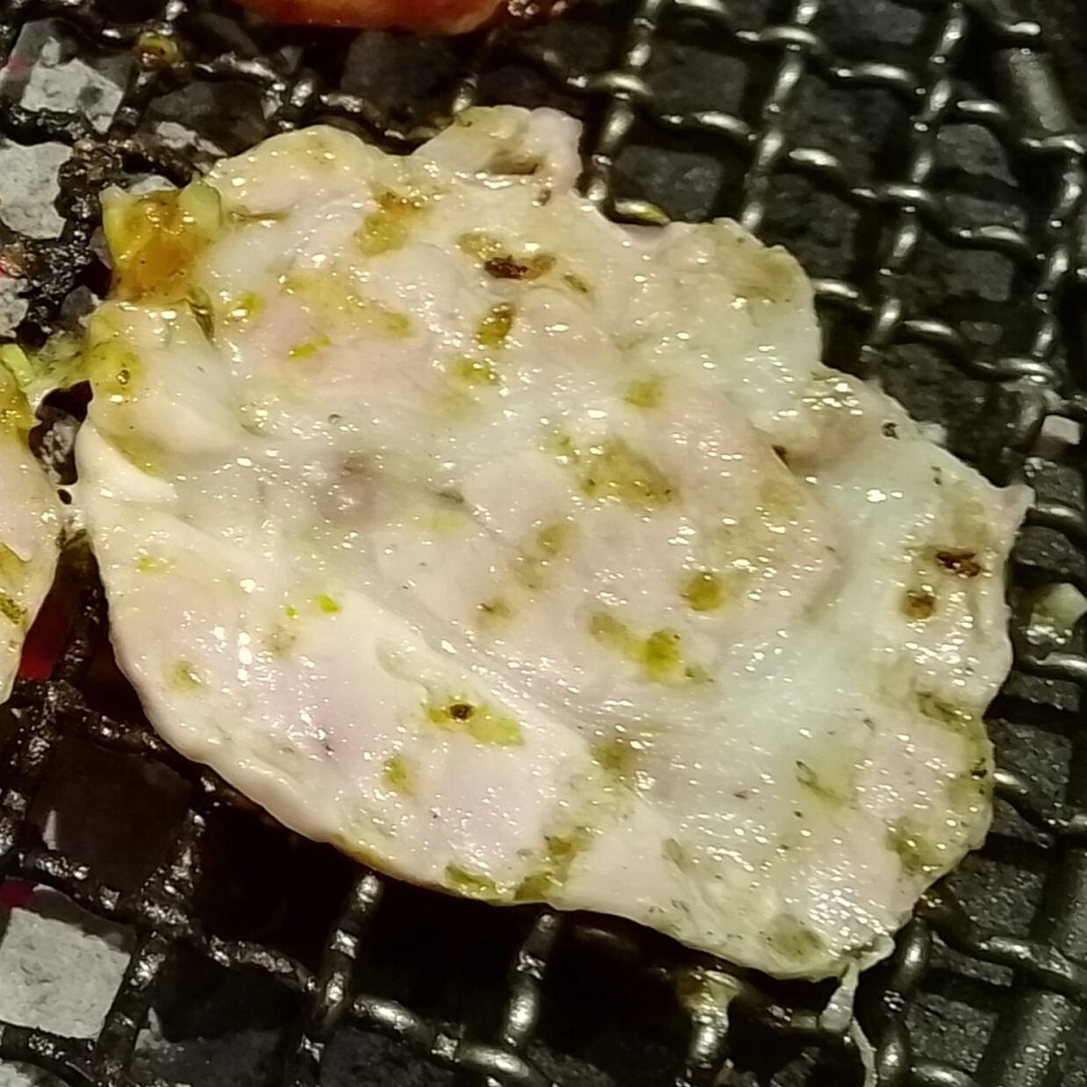Undercooked: (73, 107, 1031, 985)
